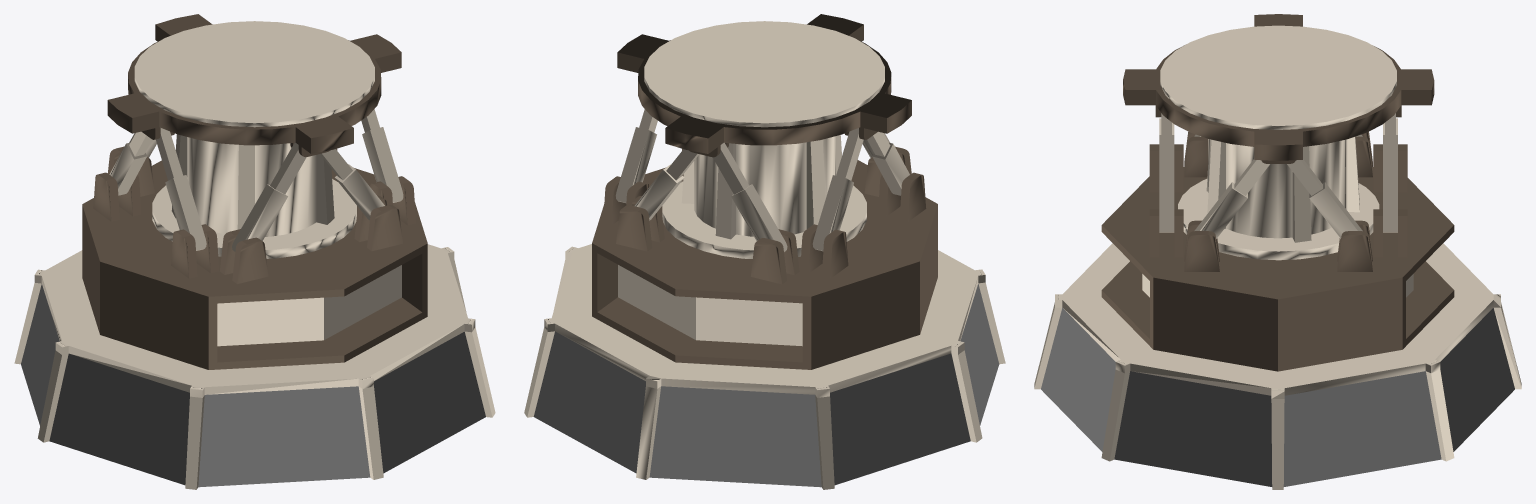
The model's file is satellite_antenna_a_body.glb.
The picture shows the model from 3 angles, left to right: view 1: azimuth 30°, elevation 25°; view 2: azimuth 150°, elevation 25°; view 3: azimuth 270°, elevation 25°; orthographic projection.
Size of the model in its own units: 11.61 by 8.18 by 11.61.
